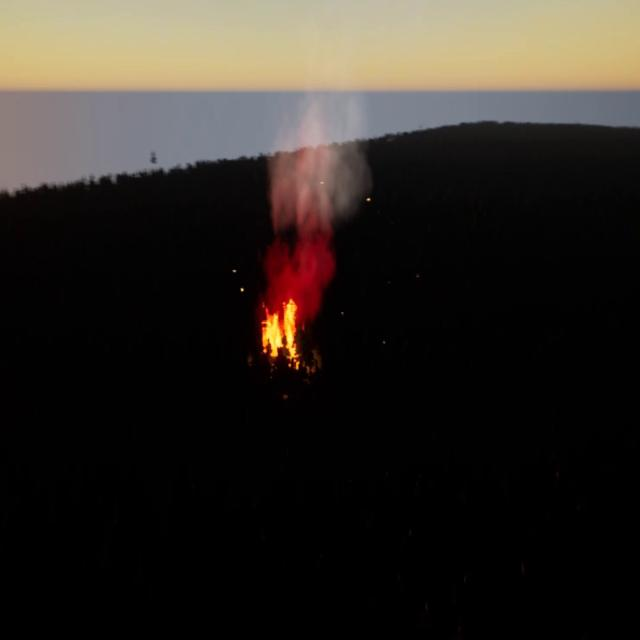fire: (257, 298, 304, 368)
smoke: (270, 90, 370, 312)
